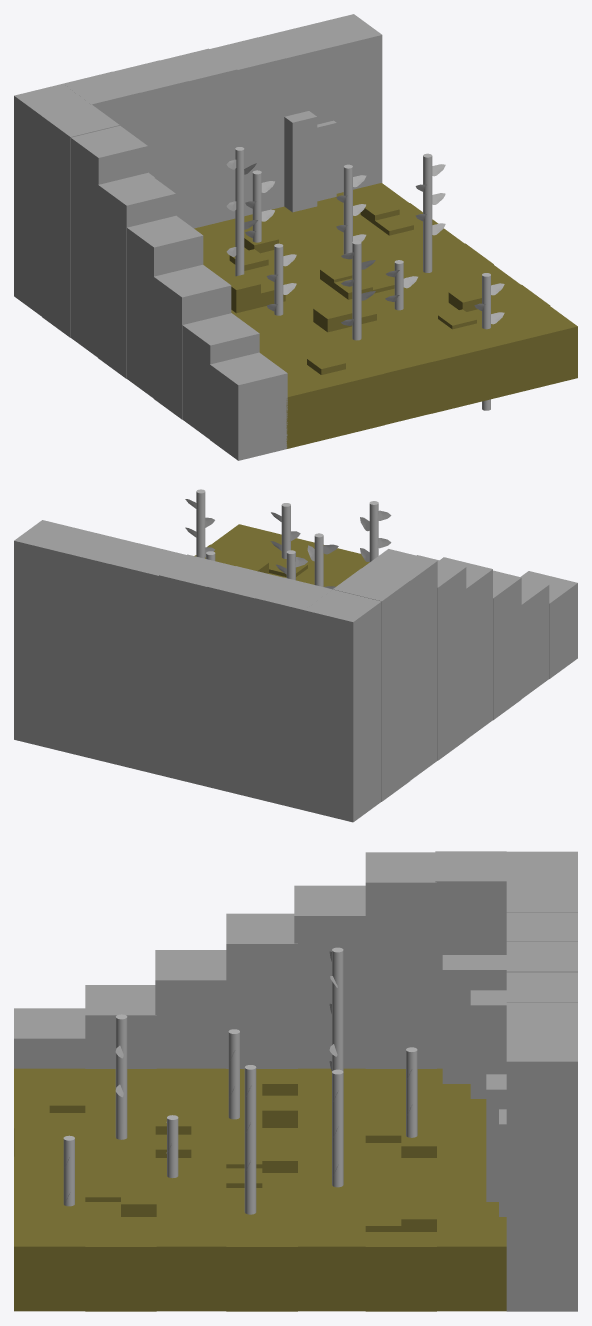
File: OceanEnvironment.fbx
The picture shows the model from 3 angles, top to bottom: view 1: azimuth 30°, elevation 25°; view 2: azimuth 150°, elevation 25°; view 3: azimuth 270°, elevation 25°; orthographic projection. The views are drawn at different scales.
Visible parts, largest first — view 1: pasted__pasted__pCube1 (×25), pasted__pCube1 (×10), pasted__pasted__pasted__pCube1 (×13), pCube1, pasted__pasted__pCylinder1 (×4), pasted__pCylinder1 (×2), pCylinder1; view 2: pasted__pCube1 (×6), pasted__pasted__pCube1 (×8), pasted__pasted__pasted__pCube1 (×5), pCube1, pasted__pasted__pCylinder1 (×2), pasted__pCylinder1, pCylinder1; view 3: pasted__pasted__pCube1 (×28), pasted__pasted__pasted__pCube1 (×16), pasted__pCube1 (×10), pasted__pasted__pCylinder1 (×4), pasted__pCylinder1 (×3), pCube1, pCylinder1.
Boxes of the visible parts, x1=… form: pasted__pasted__pCube1 (×25): x1=42, y1=104, x2=550, y2=439; pasted__pCube1 (×10): x1=14, y1=14, x2=382, y2=316; pasted__pasted__pasted__pCube1 (×13): x1=98, y1=173, x2=577, y2=460; pCube1: x1=161, y1=48, x2=237, y2=228; pasted__pasted__pCylinder1 (×4): x1=252, y1=153, x2=490, y2=410; pasted__pCylinder1 (×2): x1=343, y1=164, x2=361, y2=340; pCylinder1: x1=235, y1=147, x2=244, y2=276; pasted__pCube1 (×6): x1=14, y1=520, x2=381, y2=822; pasted__pasted__pCube1 (×8): x1=194, y1=538, x2=549, y2=801; pasted__pasted__pasted__pCube1 (×5): x1=211, y1=524, x2=577, y2=760; pCube1: x1=159, y1=554, x2=234, y2=786; pasted__pasted__pCylinder1 (×2): x1=196, y1=489, x2=290, y2=558; pasted__pCylinder1: x1=369, y1=501, x2=378, y2=561; pCylinder1: x1=314, y1=533, x2=323, y2=586; pasted__pasted__pCube1 (×28): x1=14, y1=851, x2=506, y2=1311; pasted__pasted__pasted__pCube1 (×16): x1=14, y1=885, x2=365, y2=1311; pasted__pCube1 (×10): x1=226, y1=851, x2=577, y2=1311; pasted__pasted__pCylinder1 (×4): x1=63, y1=1029, x2=417, y2=1214; pasted__pCylinder1 (×3): x1=115, y1=1014, x2=343, y2=1187; pCube1: x1=506, y1=942, x2=577, y2=972; pCylinder1: x1=332, y1=947, x2=343, y2=1071.
Size of the model in its own units: 85.58 by 56.95 by 97.91.
